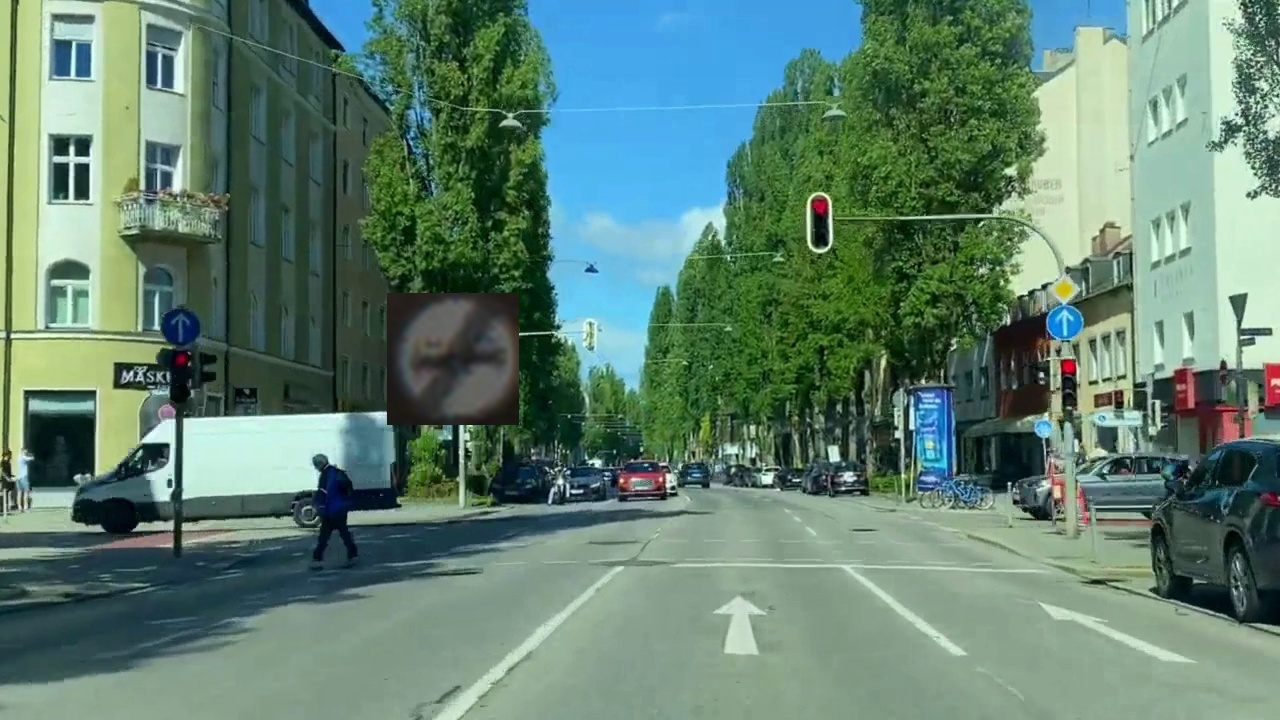End no pass: (387, 293, 519, 425)
